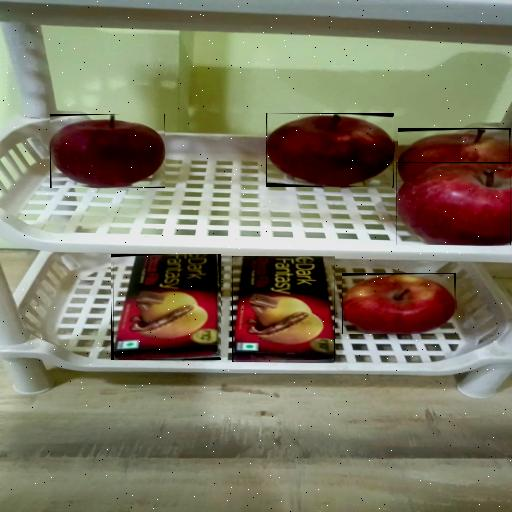Apple: (396, 163, 511, 245), (267, 115, 393, 186), (50, 114, 165, 188), (343, 274, 455, 334), (398, 129, 510, 181)
Choco Fills: (114, 254, 220, 360), (233, 256, 335, 361)
